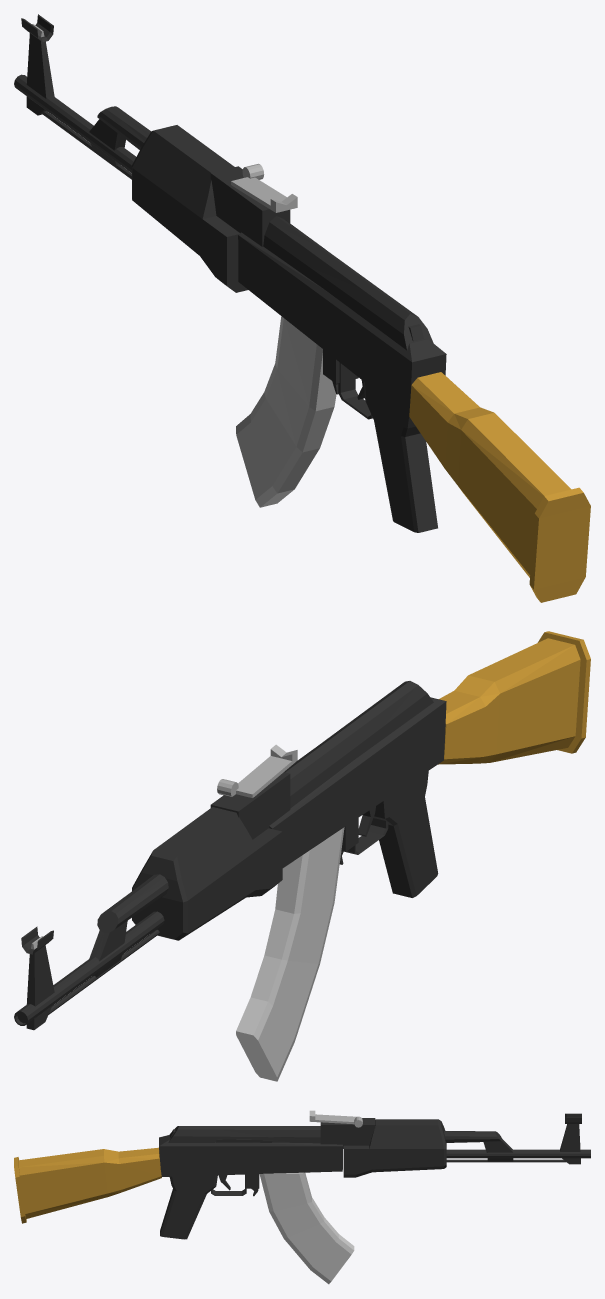
3 renders of one model, top to bottom at view 1: azimuth 30°, elevation 25°; view 2: azimuth 150°, elevation 25°; view 3: azimuth 270°, elevation 25°, orthographic. The views are drawn at different scales.
Parts seen in each view (by area): view 1: NIKO_TABLE_SLAM; view 2: NIKO_TABLE_SLAM; view 3: NIKO_TABLE_SLAM.
Boxes of the visible parts, <box> form: NIKO_TABLE_SLAM: <box>14,14,590,602</box>; NIKO_TABLE_SLAM: <box>14,631,590,1081</box>; NIKO_TABLE_SLAM: <box>14,1110,590,1284</box>.
Bounding box in the file's own units: 0.2721 × 1.49 × 4.63.
